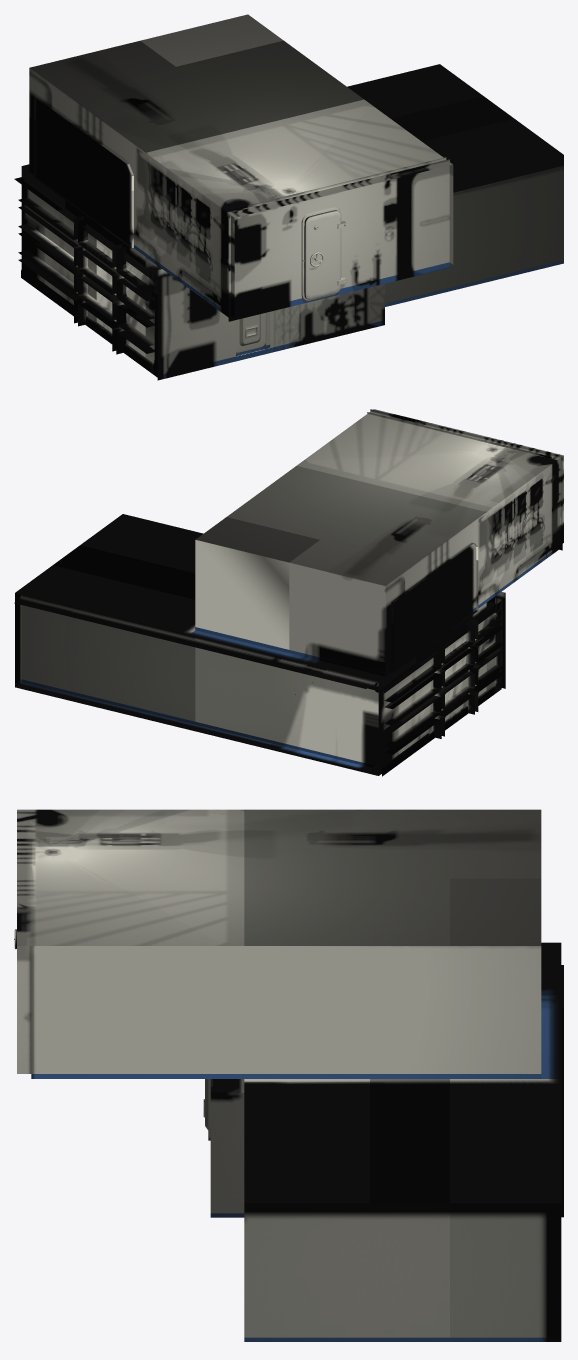
File: CANGSHI.FBX
The picture shows the model from 3 angles, top to bottom: view 1: azimuth 30°, elevation 25°; view 2: azimuth 150°, elevation 25°; view 3: azimuth 270°, elevation 25°; orthographic projection. The views are drawn at different scales.
Parts seen in each view (by area): view 1: qiang, C, Dimian, men_1, men_2, A; view 2: qiang, C, Dimian; view 3: qiang, Dimian.
Boxes of the visible parts, x1=… form: qiang: x1=14, y1=14, x2=563, y2=375; C: x1=18, y1=95, x2=161, y2=377; Dimian: x1=22, y1=164, x2=563, y2=380; men_1: x1=304, y1=210, x2=345, y2=299; men_2: x1=236, y1=313, x2=266, y2=353; A: x1=301, y1=207, x2=341, y2=300; qiang: x1=14, y1=409, x2=563, y2=772; C: x1=372, y1=542, x2=504, y2=776; Dimian: x1=15, y1=545, x2=562, y2=775; qiang: x1=17, y1=809, x2=563, y2=1337; Dimian: x1=31, y1=942, x2=561, y2=1341.
Size of the model in its own units: 41.79 by 22.32 by 36.4.
6 materials, 6 textured.
